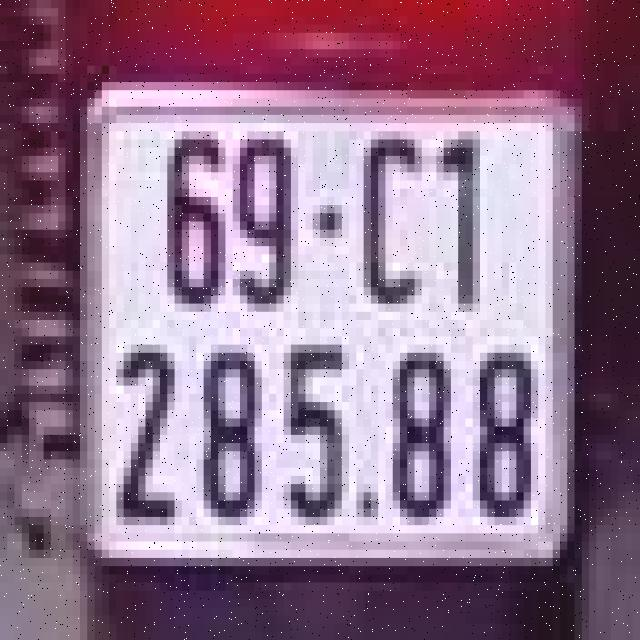1: (429, 127, 495, 316)
2: (102, 332, 189, 530)
5: (276, 324, 349, 521)
6: (156, 127, 236, 324)
8: (469, 332, 542, 530), (196, 341, 269, 521), (386, 341, 458, 521)
9: (229, 127, 295, 316)
C: (353, 131, 425, 312)
